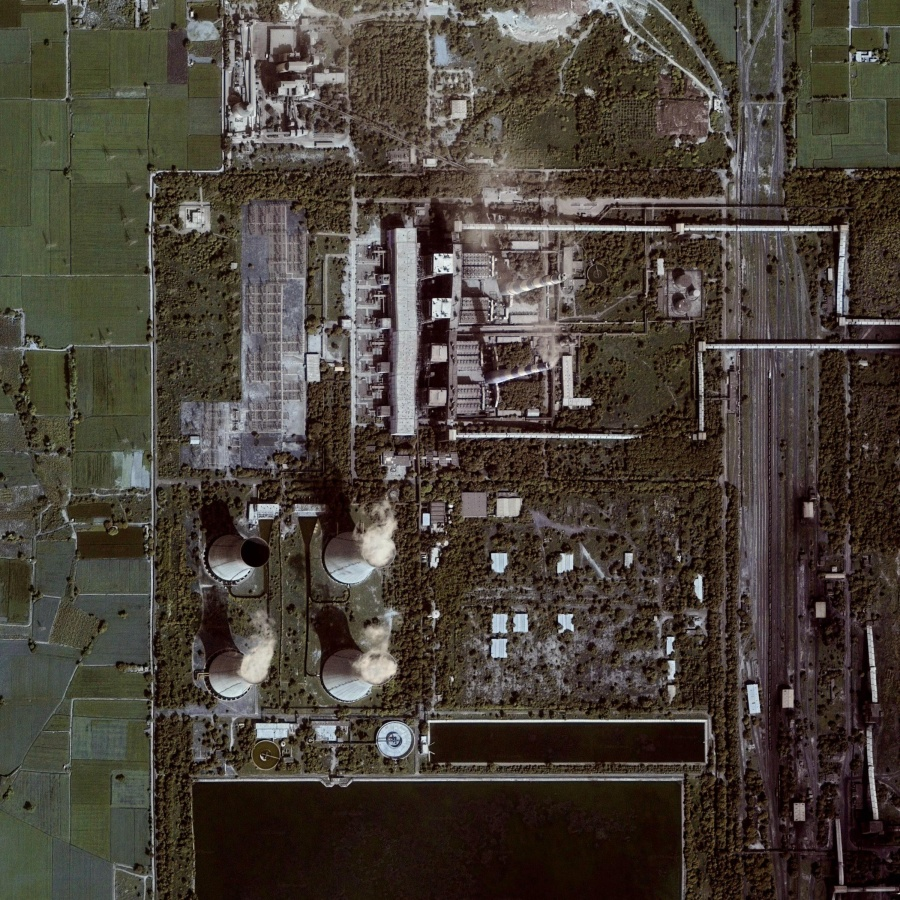PowerPlant: (175, 202, 742, 718)
